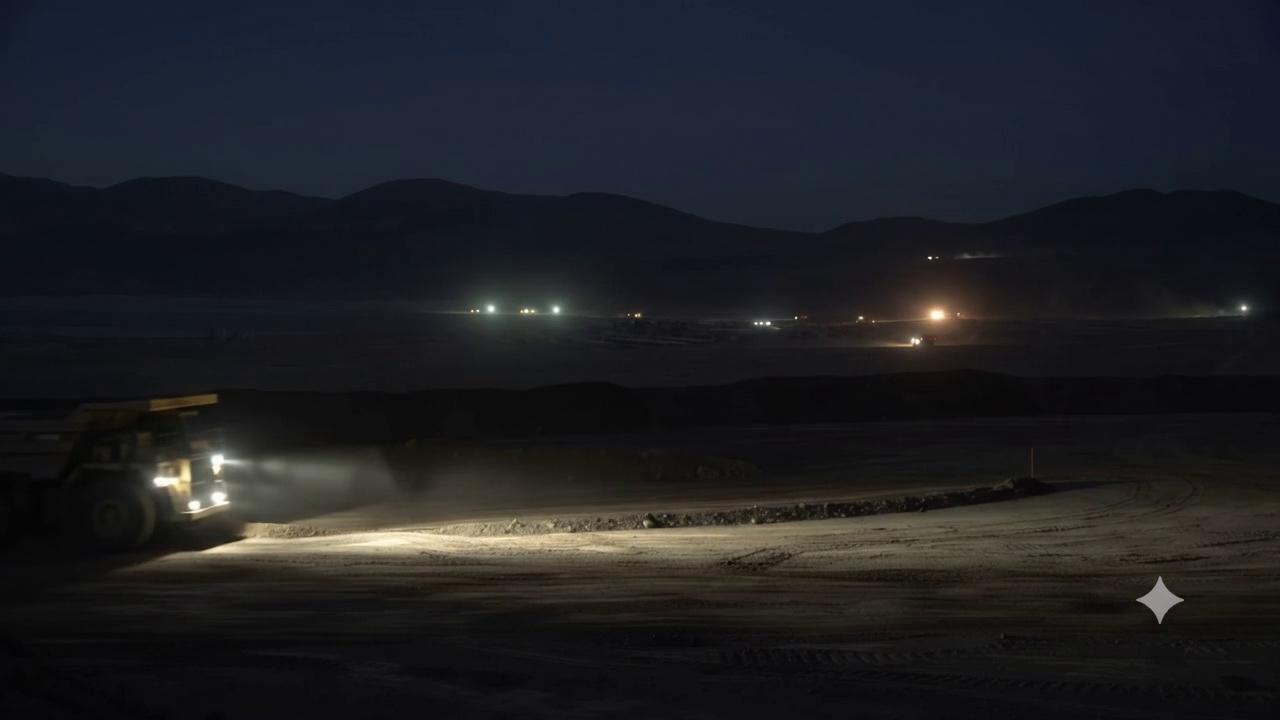CAEX: (1, 393, 233, 554)
